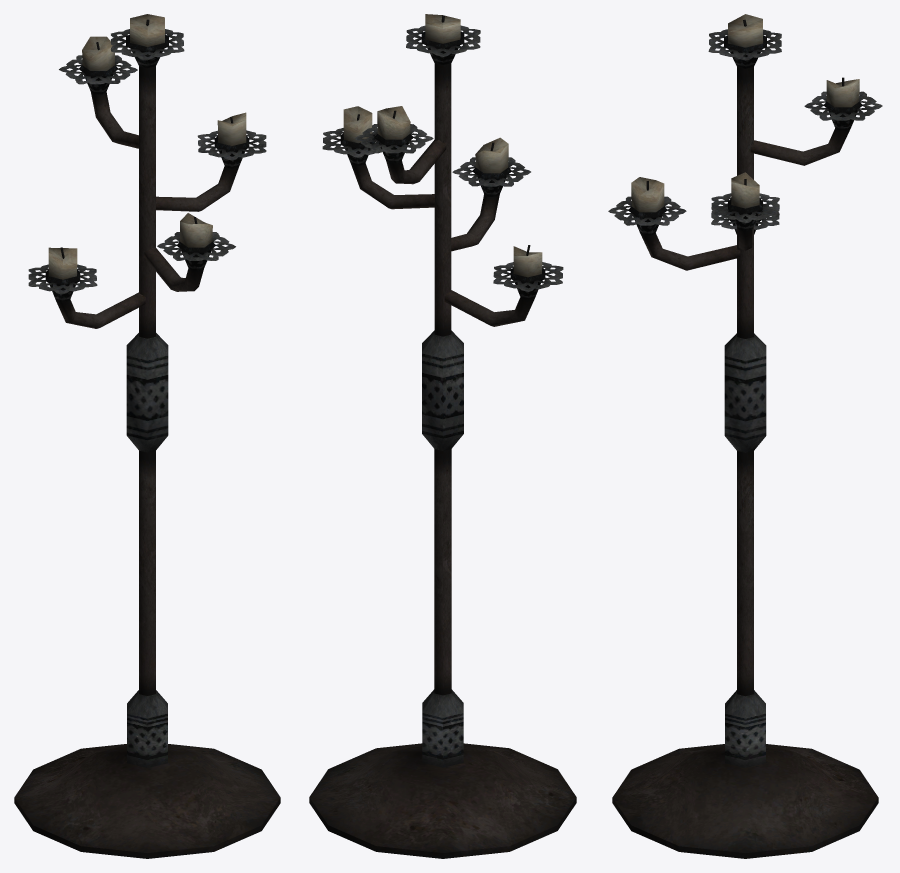
The model's file is candlestick_floor_burntout.dae.
3 views of the same model, side by side, from view 1: azimuth 30°, elevation 25°; view 2: azimuth 150°, elevation 25°; view 3: azimuth 270°, elevation 25° (orthographic).
Visible parts, largest first — view 1: polySurface23; view 2: polySurface23; view 3: polySurface23.
Boxes of the visible parts, x1=… form: polySurface23: x1=14, y1=14, x2=280, y2=858; polySurface23: x1=309, y1=14, x2=576, y2=858; polySurface23: x1=608, y1=14, x2=882, y2=858.
Size of the model in its own units: 0.6477 by 2 by 0.6477.
